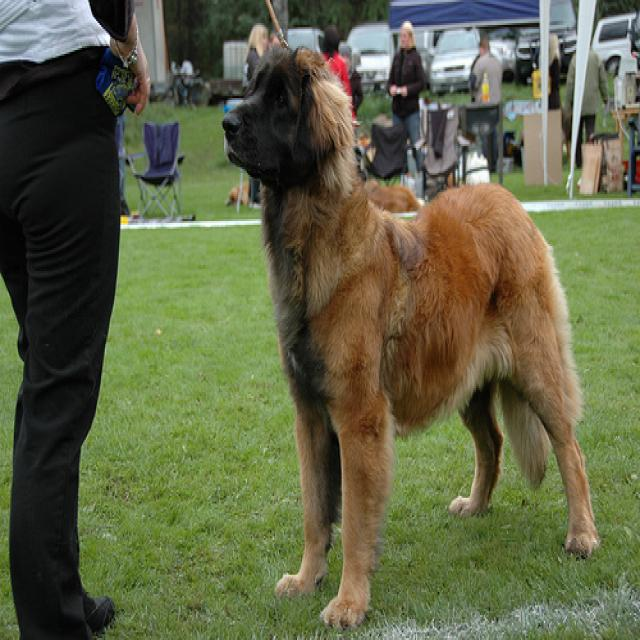dog-leonberger: (215, 37, 599, 627)
